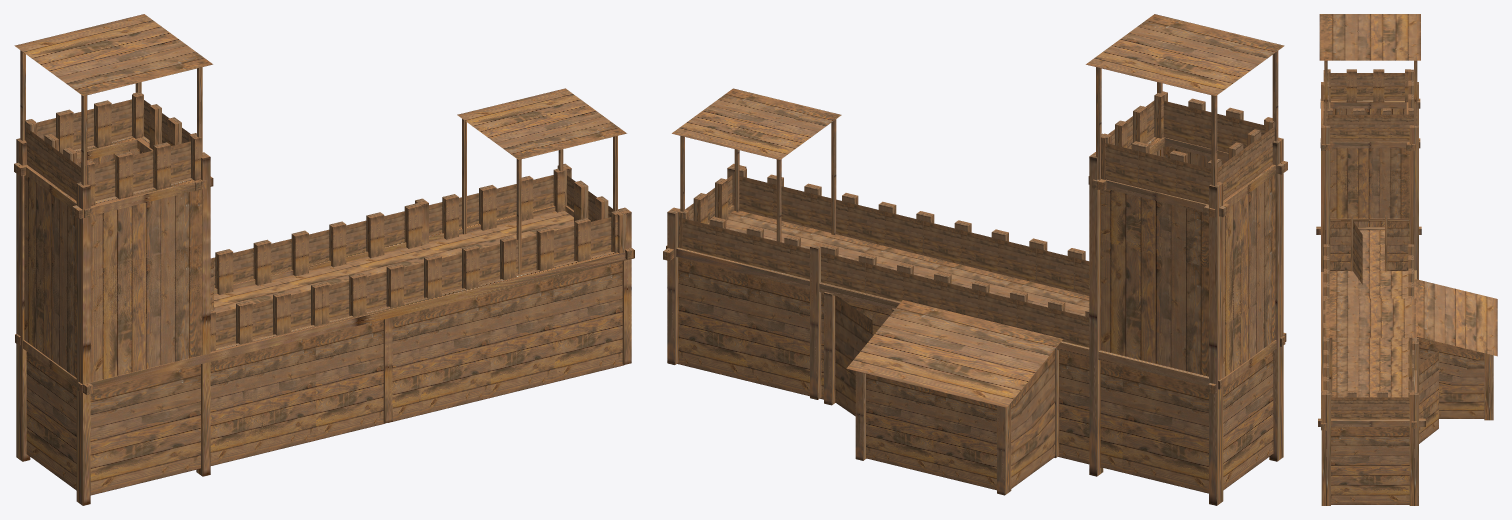
Rendered from testCastle.fbx.
The picture shows the model from 3 angles, left to right: view 1: azimuth 30°, elevation 25°; view 2: azimuth 150°, elevation 25°; view 3: azimuth 270°, elevation 25°; orthographic projection. The views are drawn at different scales.
Visible parts, largest first — view 1: Wall_Mesh29, Wall_Mesh26, Wall_Mesh39, pPlane29, Wall_Mesh15, Wall_Mesh24, Wall_Mesh13, Wall_Mesh23, pPlane4, Wall_Mesh14, woodBeam_Mesh6, Wall_Mesh28 (+34 smaller); view 2: Wall_Mesh7, Wall_Mesh21, Wall_Mesh20, pPlane29, Wall_Mesh1, pPlane4, Wall_Mesh2, Wall_Mesh19, Wall_Mesh8, Wall_Mesh22, Wall_Mesh9, Wall_Mesh27 (+49 smaller); view 3: Wall_Mesh12, Wall_Mesh7, pPlane29, Wall_Mesh34, Wall_Mesh10, pPlane4, Wall_Mesh35, Wall_Mesh5, Wall_Mesh18, Wall_Mesh3, Door_Mesh1, woodBeam_Mesh17 (+32 smaller).
Part boxes in pixels (left/top/right/bottom): Wall_Mesh29: left=90, top=244, right=202, bottom=382; Wall_Mesh26: left=90, top=364, right=200, bottom=495; Wall_Mesh39: left=90, top=189, right=202, bottom=326; pPlane29: left=14, top=14, right=212, bottom=95; Wall_Mesh15: left=419, top=293, right=490, bottom=415; Wall_Mesh24: left=244, top=336, right=315, bottom=457; Wall_Mesh13: left=553, top=261, right=623, bottom=382; Wall_Mesh23: left=316, top=319, right=384, bottom=440; pPlane4: left=457, top=88, right=626, bottom=159; Wall_Mesh14: left=483, top=278, right=552, bottom=397; woodBeam_Mesh6: left=77, top=248, right=634, bottom=393; Wall_Mesh28: left=24, top=229, right=76, bottom=377; Wall_Mesh7: left=846, top=300, right=1062, bottom=407; Wall_Mesh21: left=1100, top=241, right=1208, bottom=386; Wall_Mesh20: left=1122, top=366, right=1208, bottom=493; pPlane29: left=1086, top=14, right=1284, bottom=96; Wall_Mesh1: left=677, top=257, right=747, bottom=380; pPlane4: left=672, top=88, right=841, bottom=159; Wall_Mesh2: left=748, top=274, right=809, bottom=396; Wall_Mesh19: left=1058, top=350, right=1125, bottom=472; Wall_Mesh8: left=866, top=373, right=935, bottom=475; Wall_Mesh22: left=1100, top=189, right=1208, bottom=267; Wall_Mesh9: left=934, top=390, right=996, bottom=490; Wall_Mesh27: left=1223, top=351, right=1273, bottom=490; Wall_Mesh12: left=1331, top=427, right=1409, bottom=504; Wall_Mesh7: left=1414, top=279, right=1497, bottom=356; pPlane29: left=1319, top=14, right=1420, bottom=60; Wall_Mesh34: left=1330, top=170, right=1409, bottom=218; Wall_Mesh10: left=1417, top=337, right=1484, bottom=418; pPlane4: left=1325, top=298, right=1415, bottom=337; Wall_Mesh35: left=1330, top=148, right=1409, bottom=194; Wall_Mesh5: left=1332, top=346, right=1408, bottom=371; Wall_Mesh18: left=1329, top=270, right=1408, bottom=295; Wall_Mesh3: left=1332, top=371, right=1408, bottom=396; Door_Mesh1: left=1419, top=350, right=1438, bottom=443; woodBeam_Mesh17: left=1409, top=125, right=1418, bottom=279.
Bounding box in the file's own units: 462 × 326 × 178.
1 material, 1 textured.
